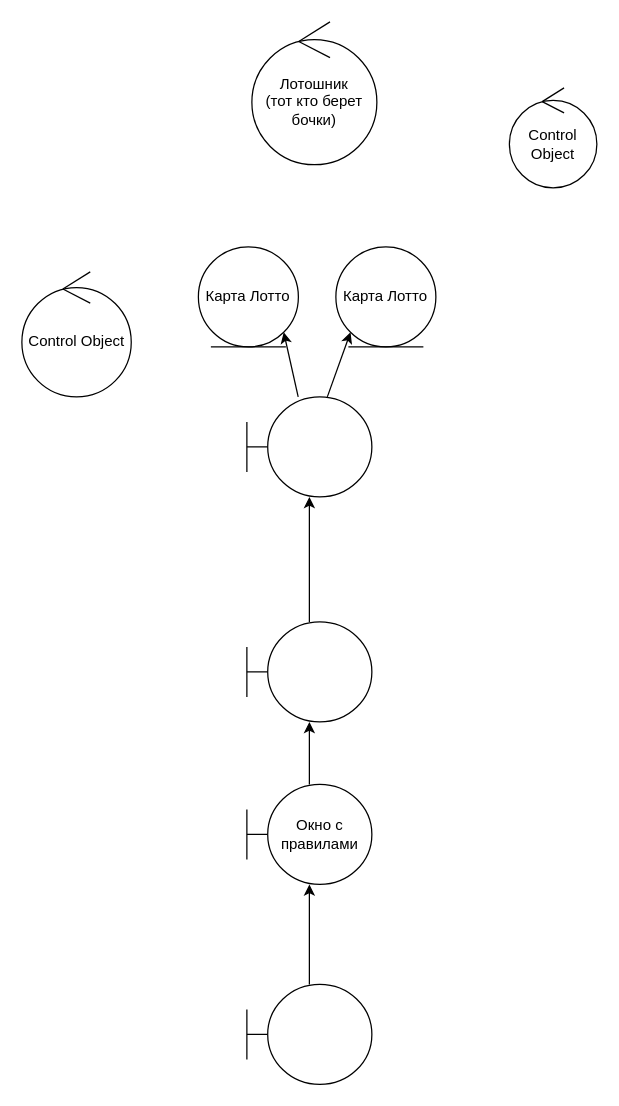
This 619x1106 diagram has some shape labels left out. Each missing label, with the centre of its shape:
"Окно выбора персонажей" goes at pixel 309 671.
"Окно игры" goes at pixel 309 446.
"Окно при открытии" goes at pixel 309 1033.
